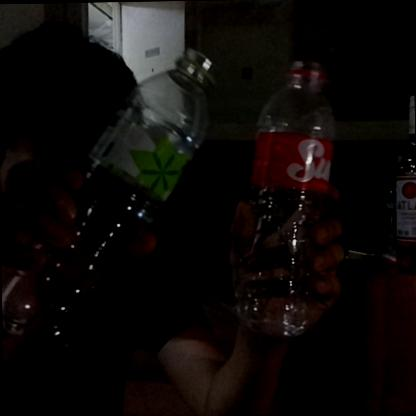plastic_bottles: (0, 48, 228, 353), (230, 55, 344, 342)
